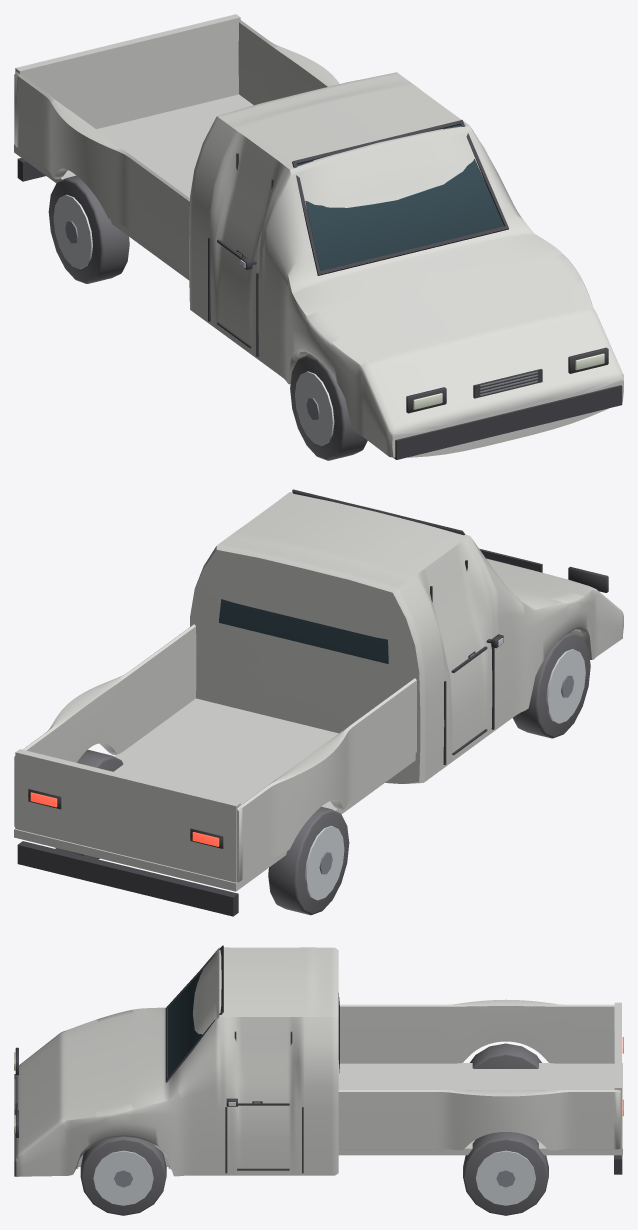
Rendered from Pickup_FullSize_25.fbx.
3 renders of one model, top to bottom at view 1: azimuth 30°, elevation 25°; view 2: azimuth 150°, elevation 25°; view 3: azimuth 270°, elevation 25°, orthographic. The views are drawn at different scales.
Visible parts, largest first — view 1: LOD0; view 2: LOD0; view 3: LOD0.
Part boxes in pixels (box(x1,y1,x2,y2)): LOD0: box(14, 14, 623, 460); LOD0: box(14, 489, 623, 916); LOD0: box(14, 945, 623, 1215).
Size of what is drawn, in the model's own units: 200 by 176 by 511.
